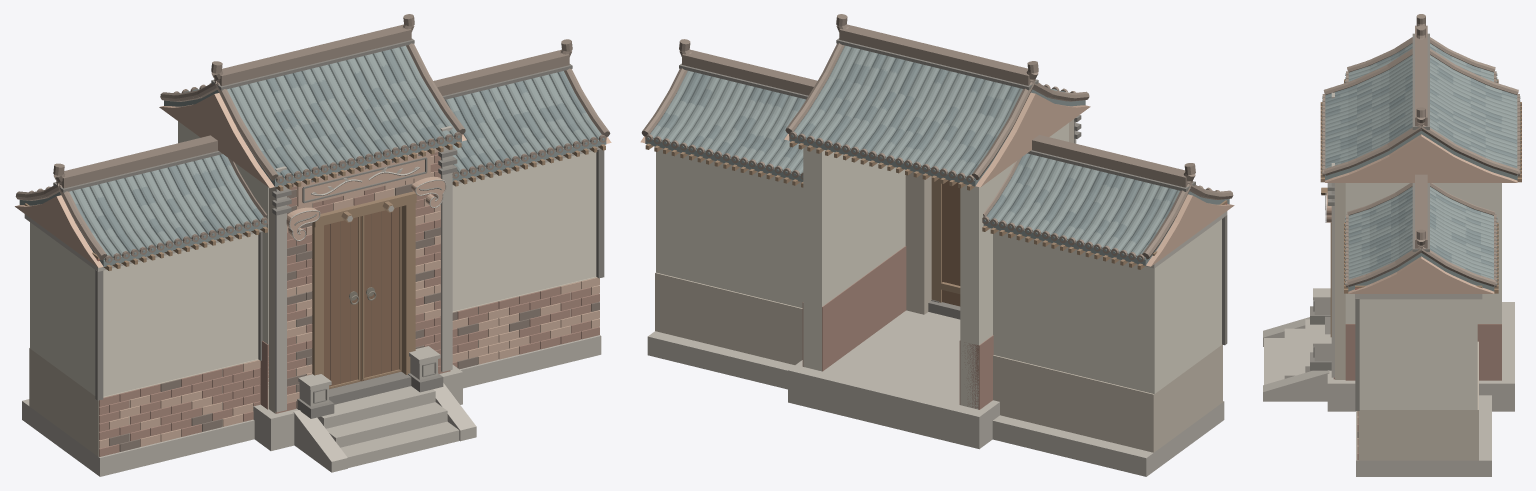
Rendered from Ruyi_Gate.glb.
The picture shows the model from 3 angles, left to right: view 1: azimuth 30°, elevation 25°; view 2: azimuth 150°, elevation 25°; view 3: azimuth 270°, elevation 25°; orthographic projection. The views are drawn at different scales.
Parts seen in each view (by area): view 1: Ruyi Gate; view 2: Ruyi Gate; view 3: Ruyi Gate.
Boxes of the visible parts, left/top/right/bottom form: Ruyi Gate: left=15, top=14, right=611, bottom=476; Ruyi Gate: left=640, top=14, right=1234, bottom=476; Ruyi Gate: left=1263, top=14, right=1521, bottom=476.
Bounding box in the file's own units: 6.03 × 3.89 × 3.01.
